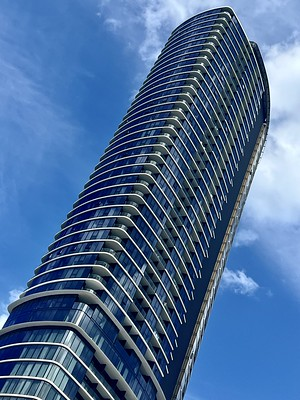high: (2, 5, 273, 399)
